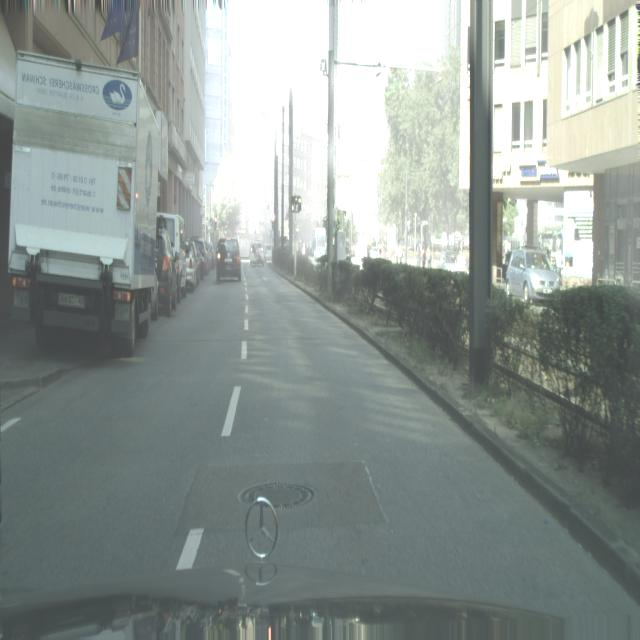rider: (8, 51, 166, 359), (156, 211, 188, 310)
truck: (506, 246, 562, 301), (216, 235, 242, 282), (191, 240, 208, 280), (188, 242, 203, 284), (250, 243, 265, 266), (204, 241, 215, 271)
